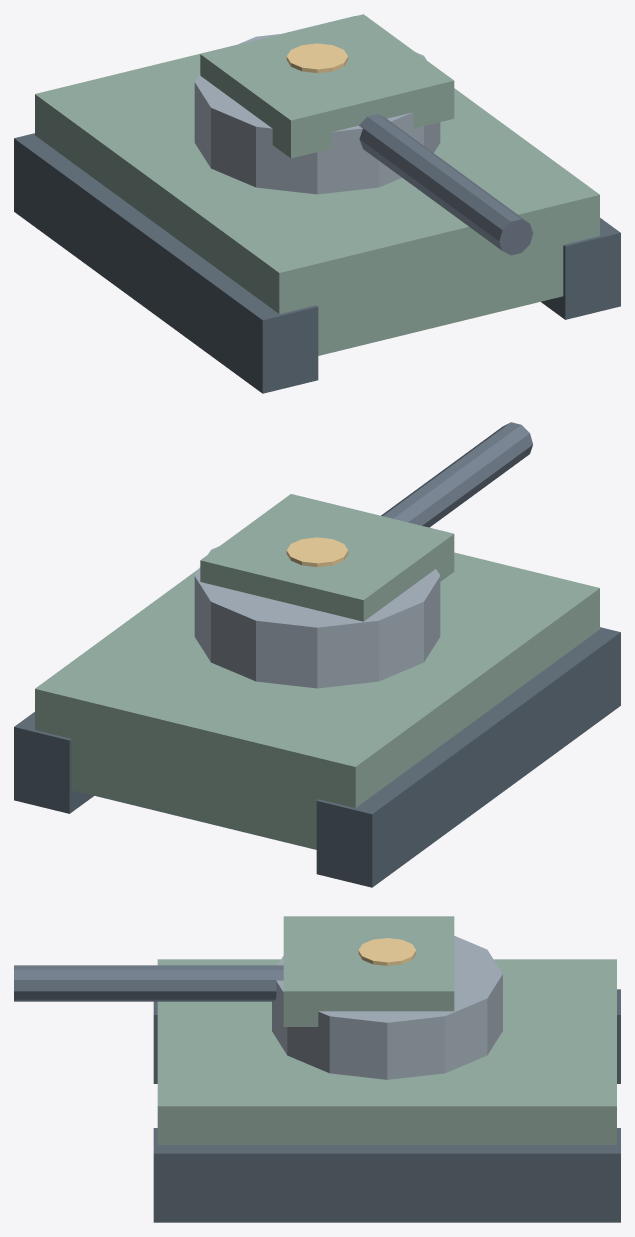
Rendered from armored-tank.glb.
3 renders of one model, top to bottom at view 1: azimuth 30°, elevation 25°; view 2: azimuth 150°, elevation 25°; view 3: azimuth 270°, elevation 25°, orthographic. The views are drawn at different scales.
Parts seen in each view (by area): view 1: Char de combat stylisé; view 2: Char de combat stylisé; view 3: Char de combat stylisé.
Boxes of the visible parts, x1,y1,x2,y2 form: Char de combat stylisé: (14,14,620,393); Char de combat stylisé: (14,422,620,887); Char de combat stylisé: (14,916,620,1222).
Size of the model in its own units: 2.96 by 1.68 by 4.62.
